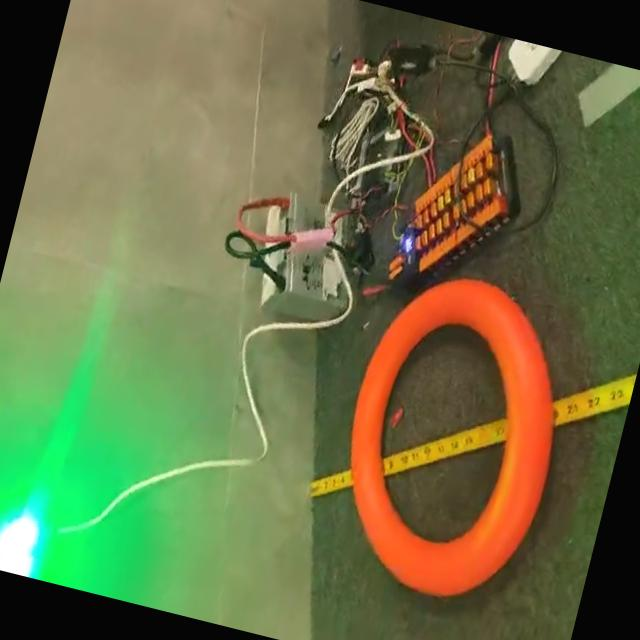note: (312, 258, 590, 616)
